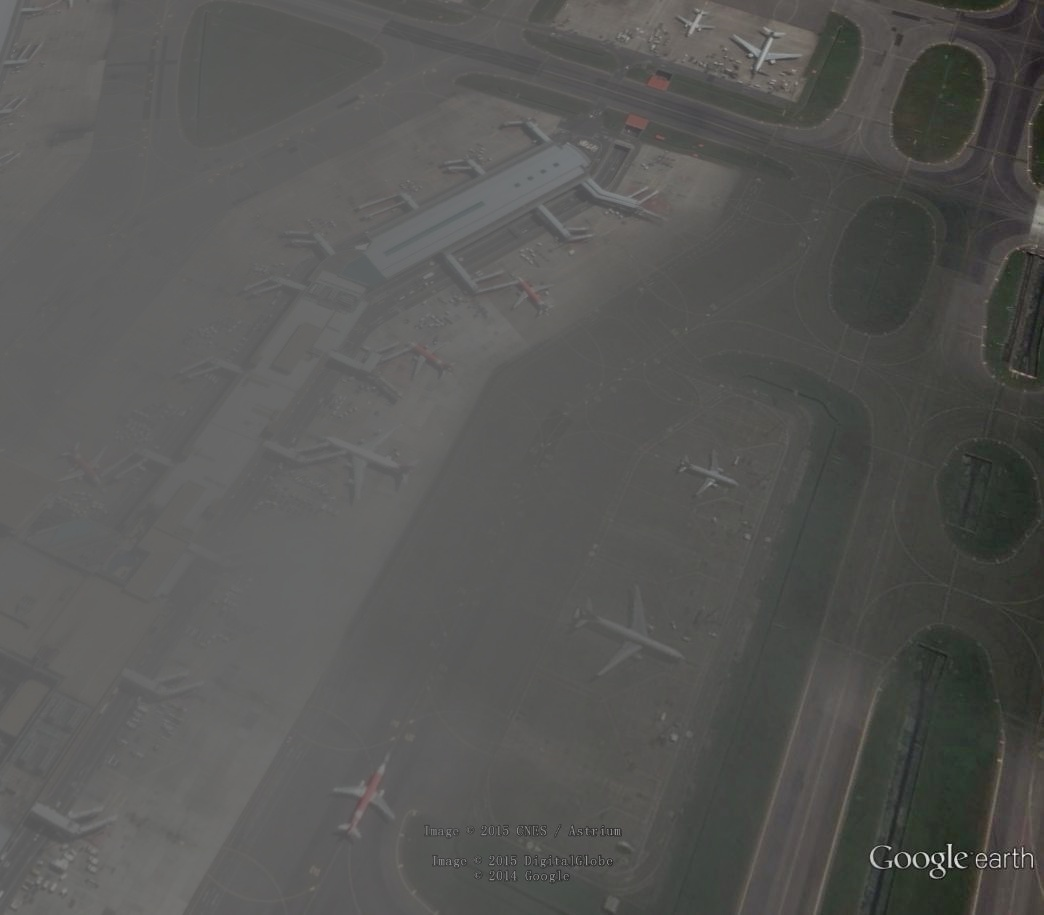aircraft: (568, 579, 691, 679), (316, 424, 424, 507), (328, 754, 402, 843), (730, 25, 805, 75), (675, 447, 742, 501), (57, 438, 112, 489), (406, 337, 460, 384), (511, 274, 559, 319), (673, 7, 718, 37)
